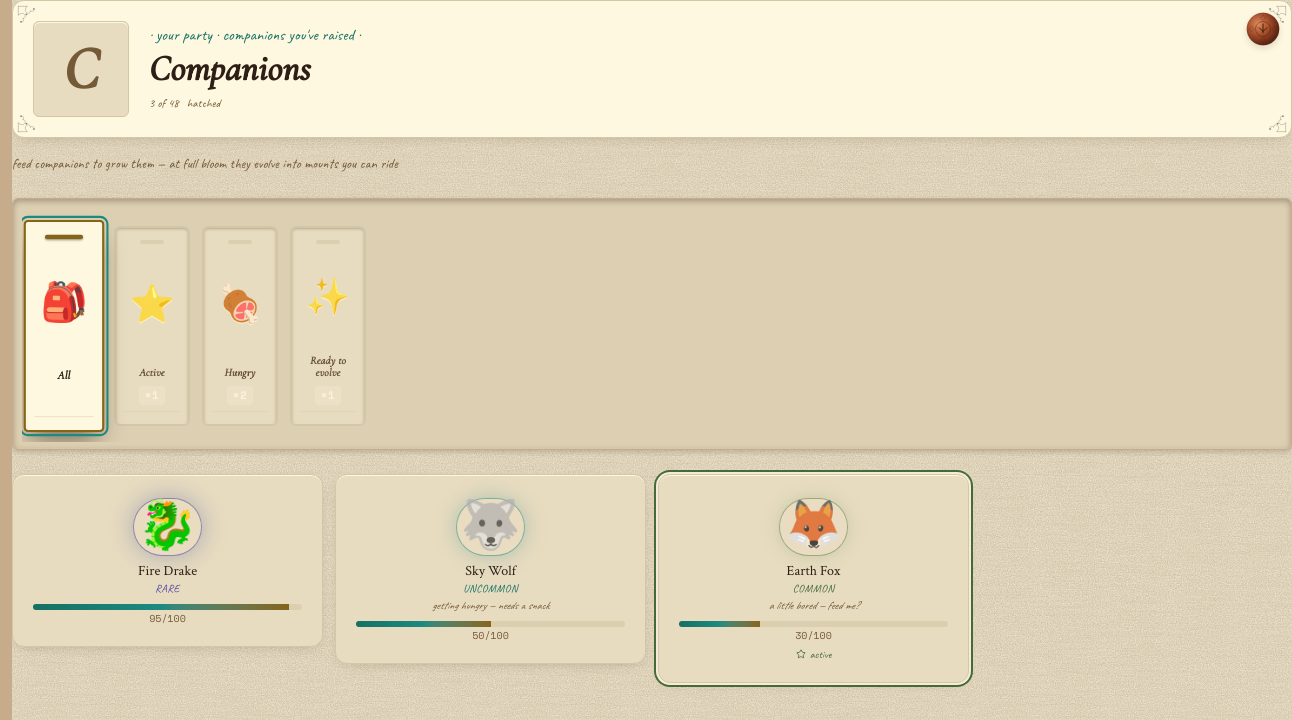
Test: Companions tab › Ready to evolve filter shows only pets with growth ≥ 90
Expected: the text "Fire Drake" is shown, [138,562,197,580]
Click the tab "✨ Ready to evolve ×1" at (328, 326), box [290,226,366,426]
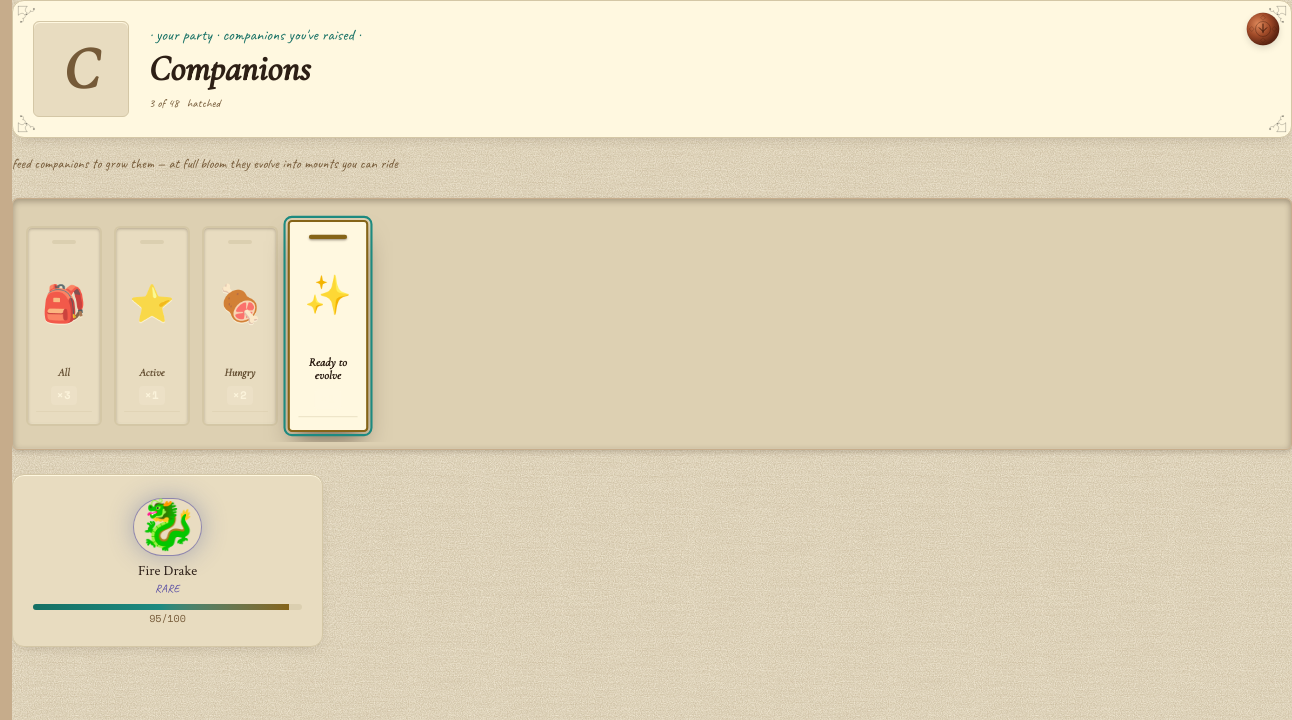
Expected: the text "Fire Drake" is shown, [138,562,197,580]
Now the text "Fox" is gone
Now the text "Wolf" is gone
